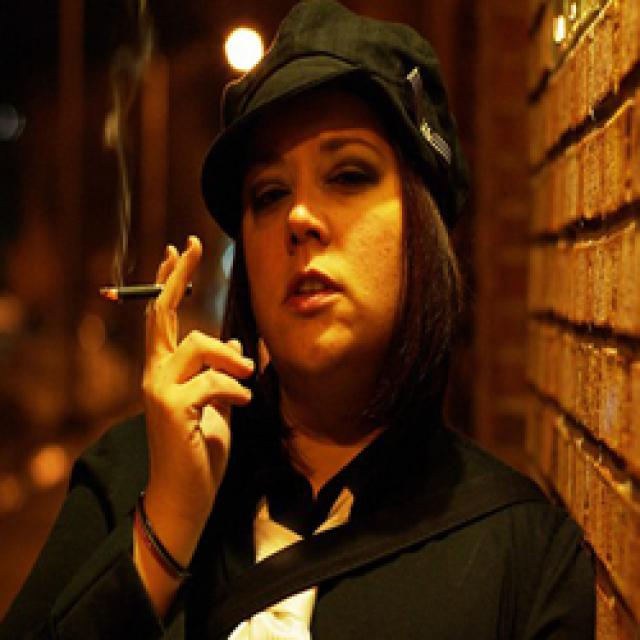Smooking: (90, 279, 197, 305)
